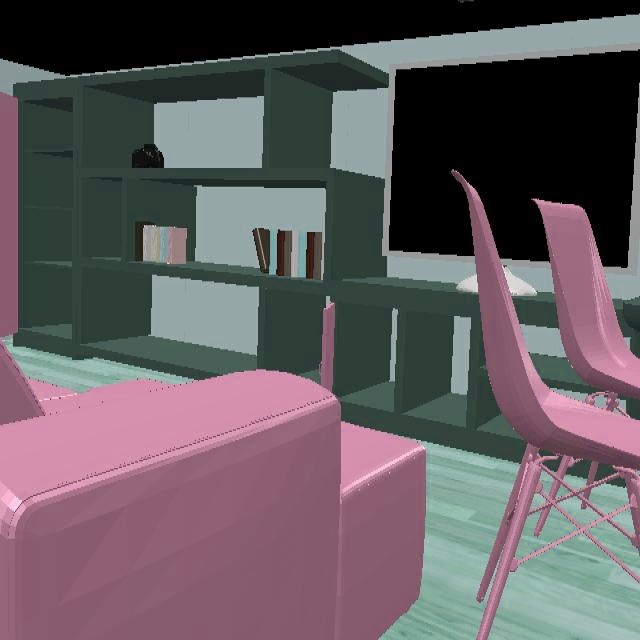book: (253, 228, 320, 277), (140, 224, 189, 265)
bookshelf: (16, 51, 526, 463)
chair: (452, 169, 640, 640)
monitor: (382, 51, 640, 276)
sofa: (0, 339, 427, 640)
